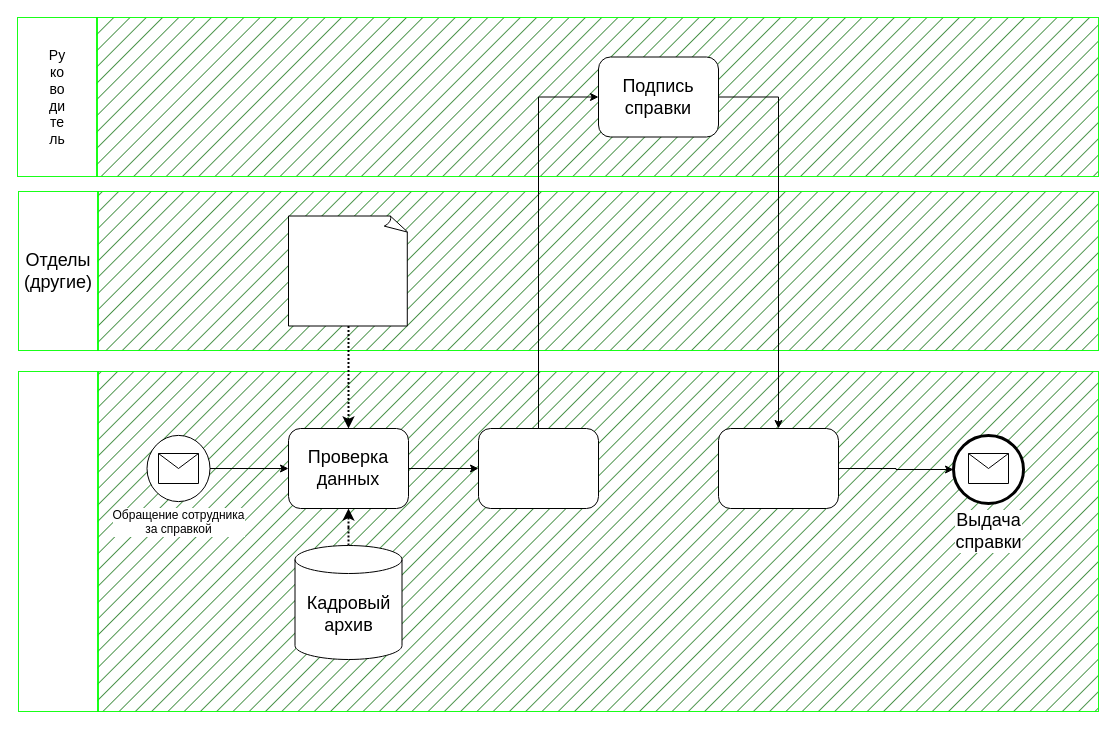
The diagram is 1116 pixels wide and 729 high, and some of its shapes have lost their labels. Here are the shapes that lost their labels. From the top down, the centre of each, then its label:
At point 348,270: "Запрос информации".
At point 538,468: "Подготовка справки".
At point 778,468: "Регистрация справки в журнале".
At point 58,541: "Отдел кадров".
